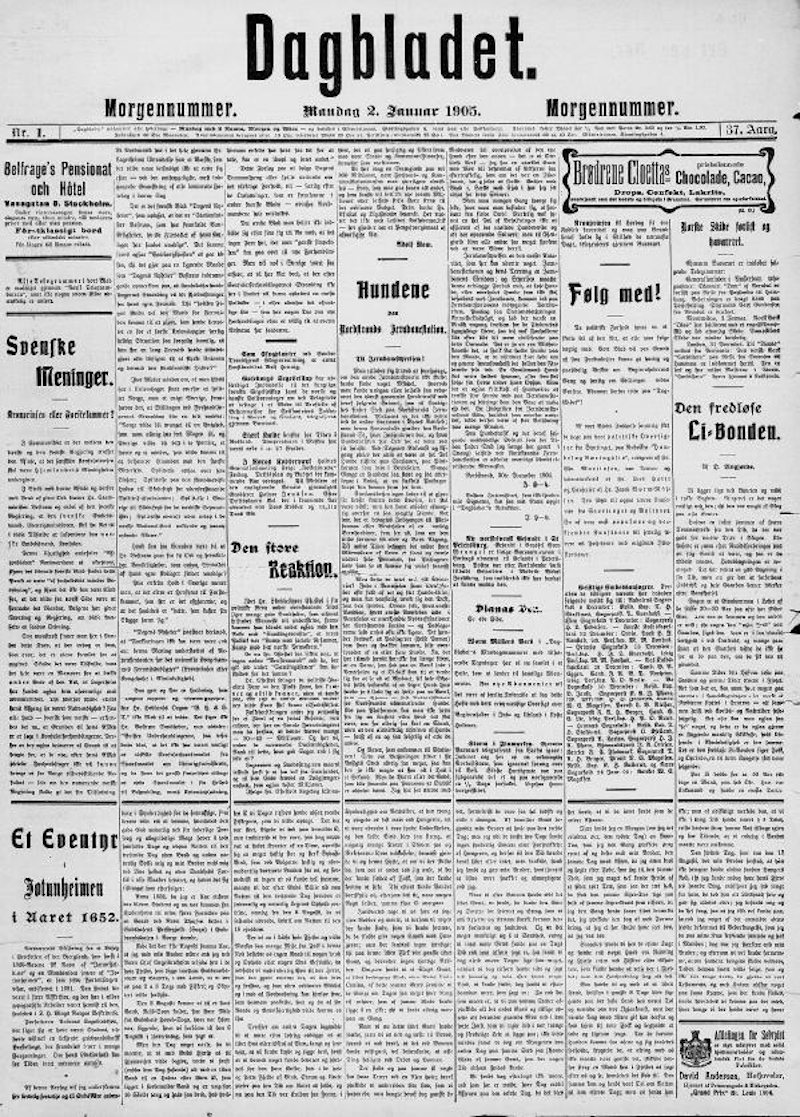news_paper: (5, 4, 796, 1096)
